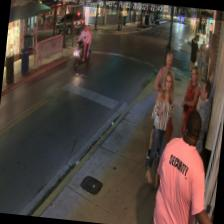person: (150, 106, 224, 224), (144, 68, 176, 188), (146, 50, 176, 159), (190, 70, 216, 184), (176, 64, 202, 152)
